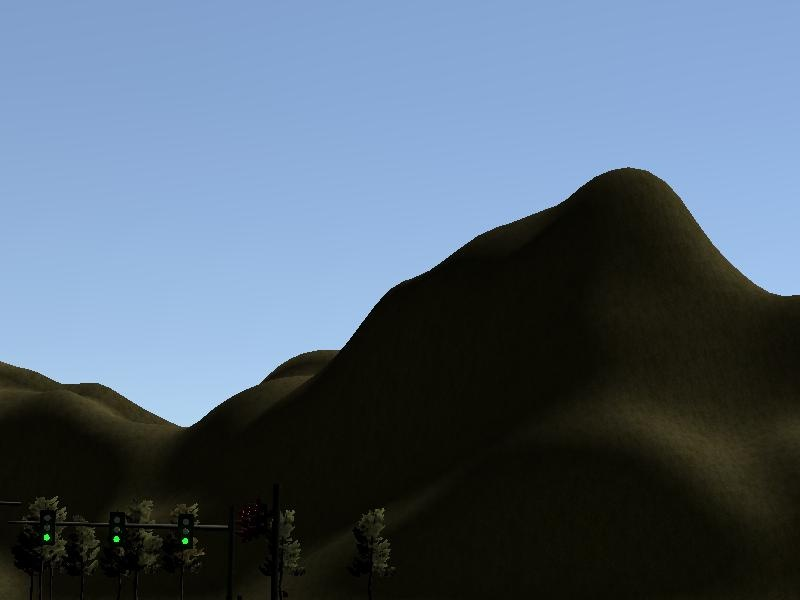GREEN: (174, 512, 196, 549), (108, 512, 127, 549), (39, 509, 56, 546)
